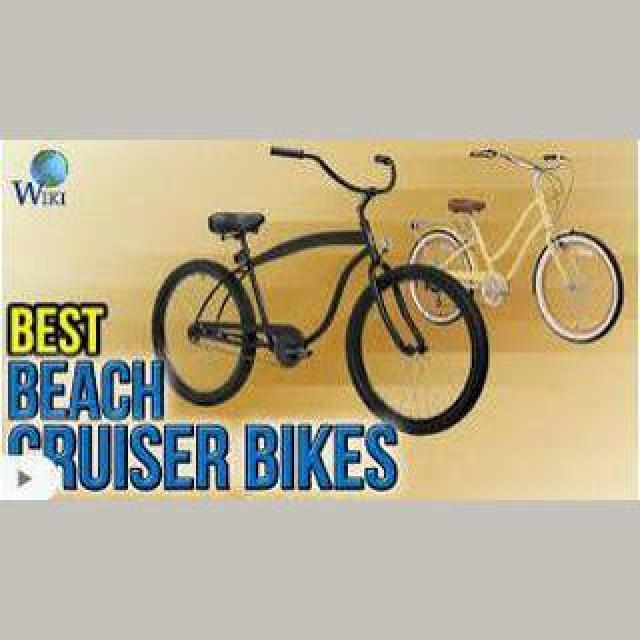Person: (149, 140, 491, 438), (407, 149, 623, 345)
